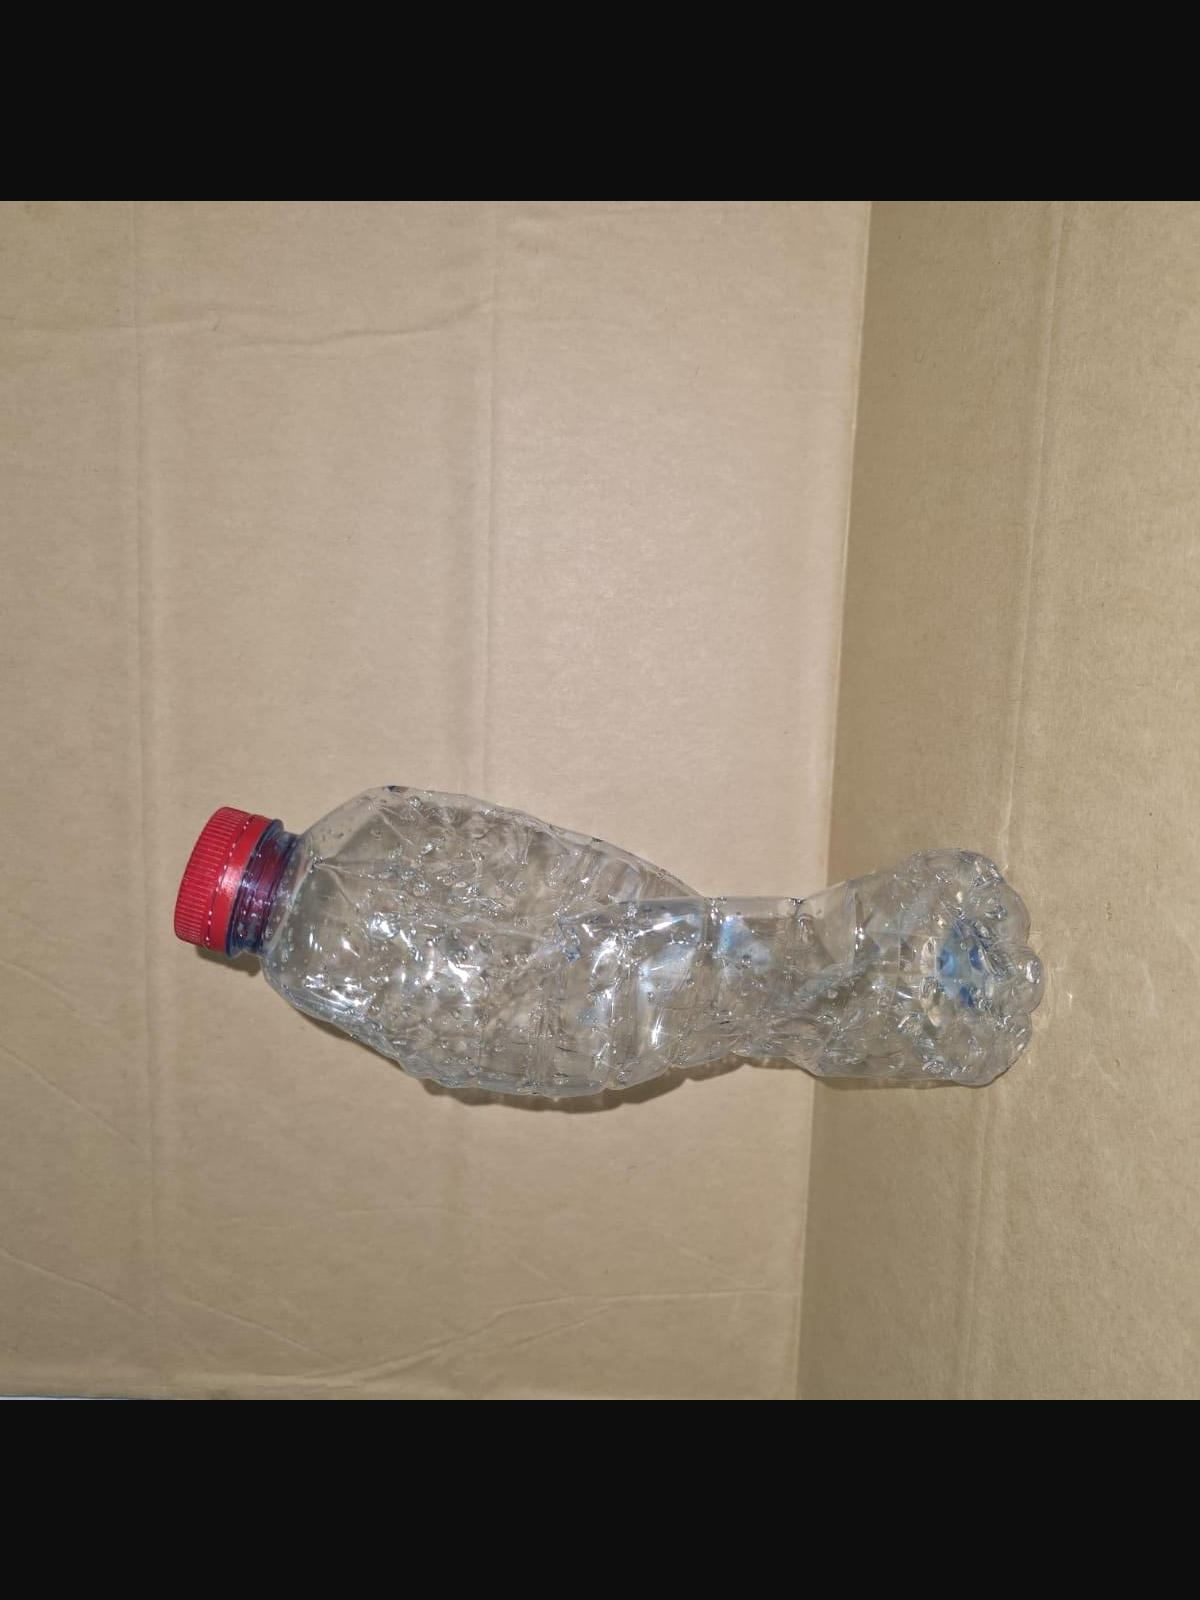bottle: (154, 769, 1031, 1120)
